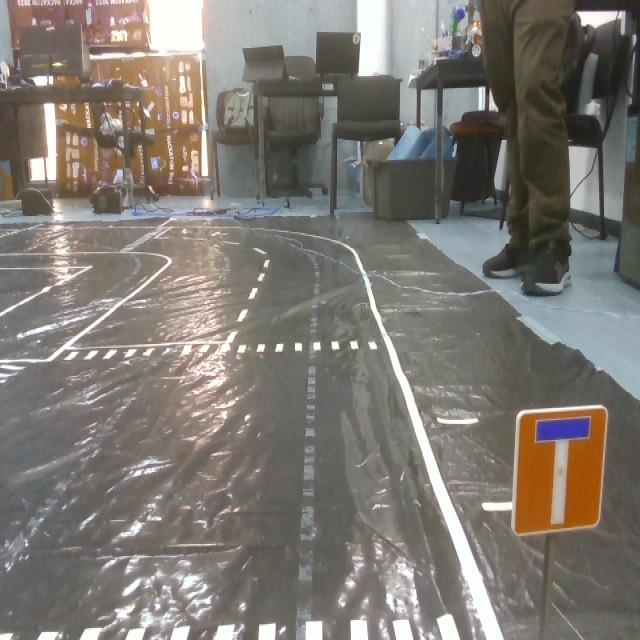stop: (500, 401, 616, 536)
